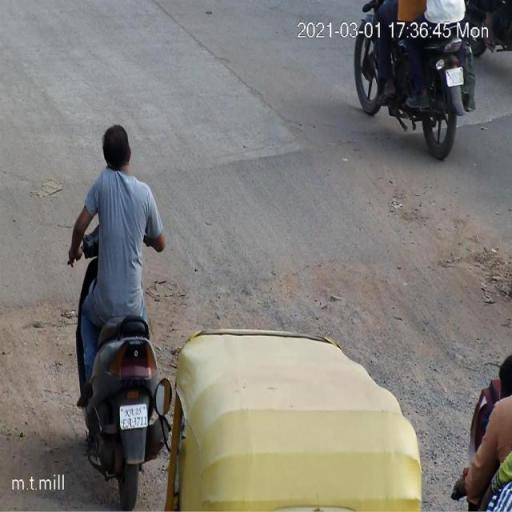using mobile: (105, 161, 115, 179)
